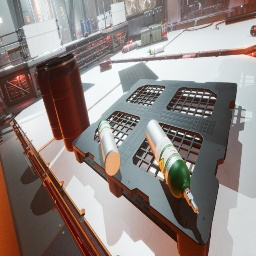0: (146, 119, 199, 214), (98, 119, 121, 176), (146, 44, 164, 55), (136, 40, 141, 46)
EmergencyPhone ,: (59, 5, 64, 15), (61, 9, 62, 10), (112, 26, 112, 27)
FireAlarm ,: (26, 16, 30, 23)
FireExtinguisher ]: (180, 53, 199, 59), (250, 25, 256, 35), (162, 31, 169, 37), (105, 24, 111, 30), (181, 58, 182, 59), (167, 32, 167, 32), (105, 28, 106, 28)
FirstAidBox ,: (99, 59, 112, 72), (126, 38, 134, 45), (117, 22, 124, 26)
NitrogenTank ,: (121, 41, 137, 54), (84, 32, 88, 38)
SafetySwitchPanel ,: (111, 27, 111, 27)
